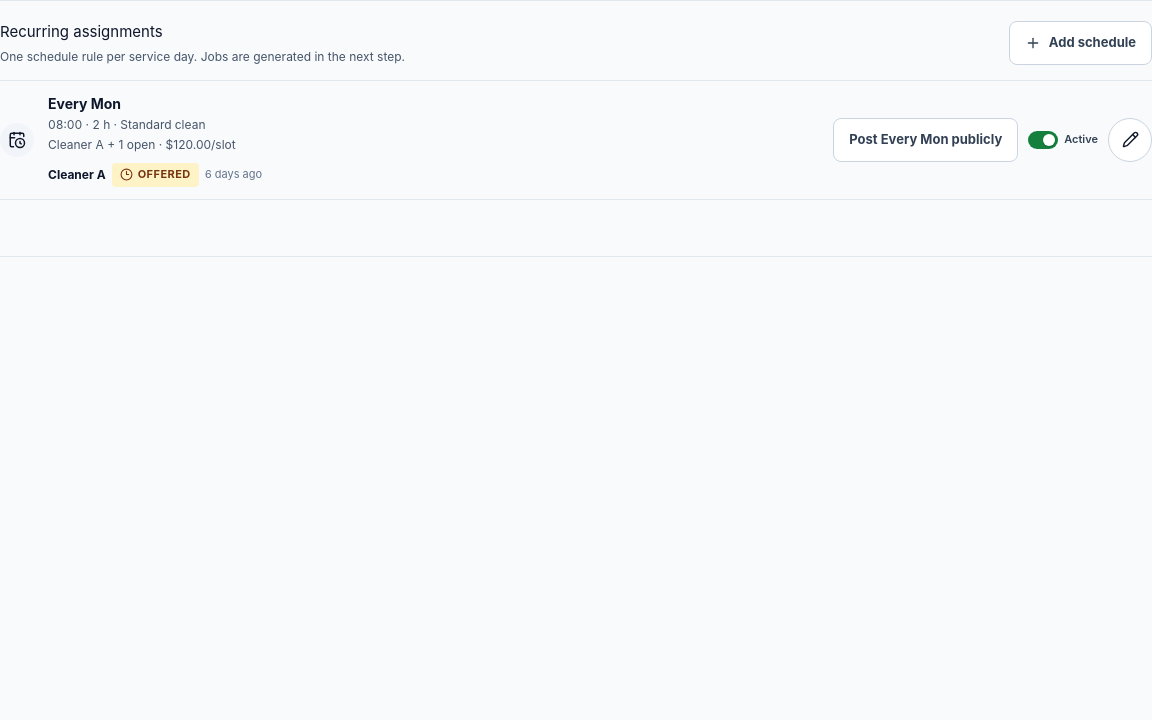
Test: CLE-14 recurring assignment site surface › discards abandoned edits when the same rule is reopened
Click the button named "Edit Every Mon" at (1130, 140), box [1108,118,1151,162]
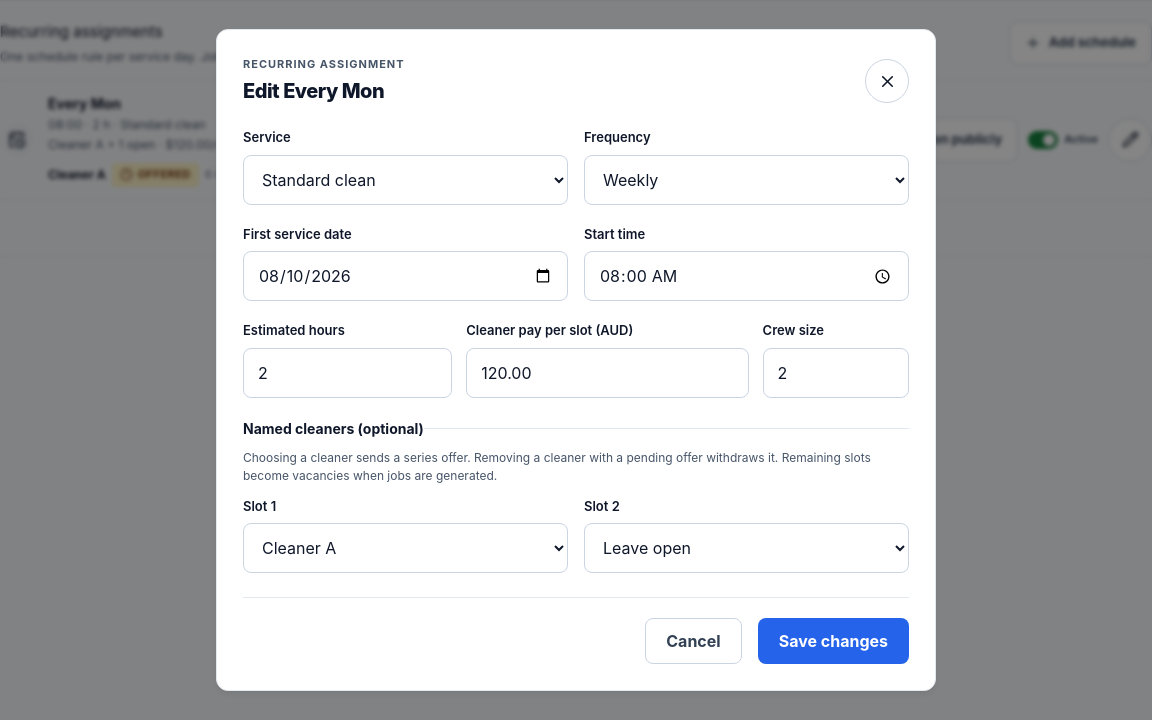
Replace the text in the time field labelled "Start time" with "09:30" at (746, 276), box [584,251,909,301]
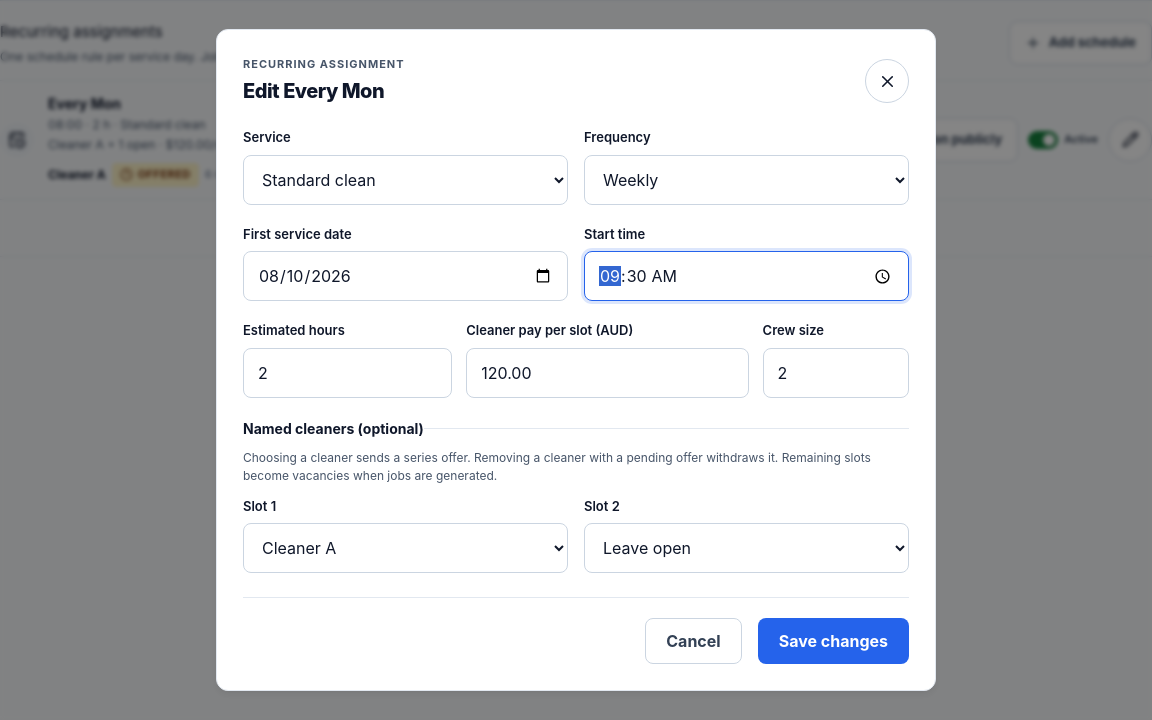
Click the button "Cancel" at (694, 641), box [645,618,742,664]
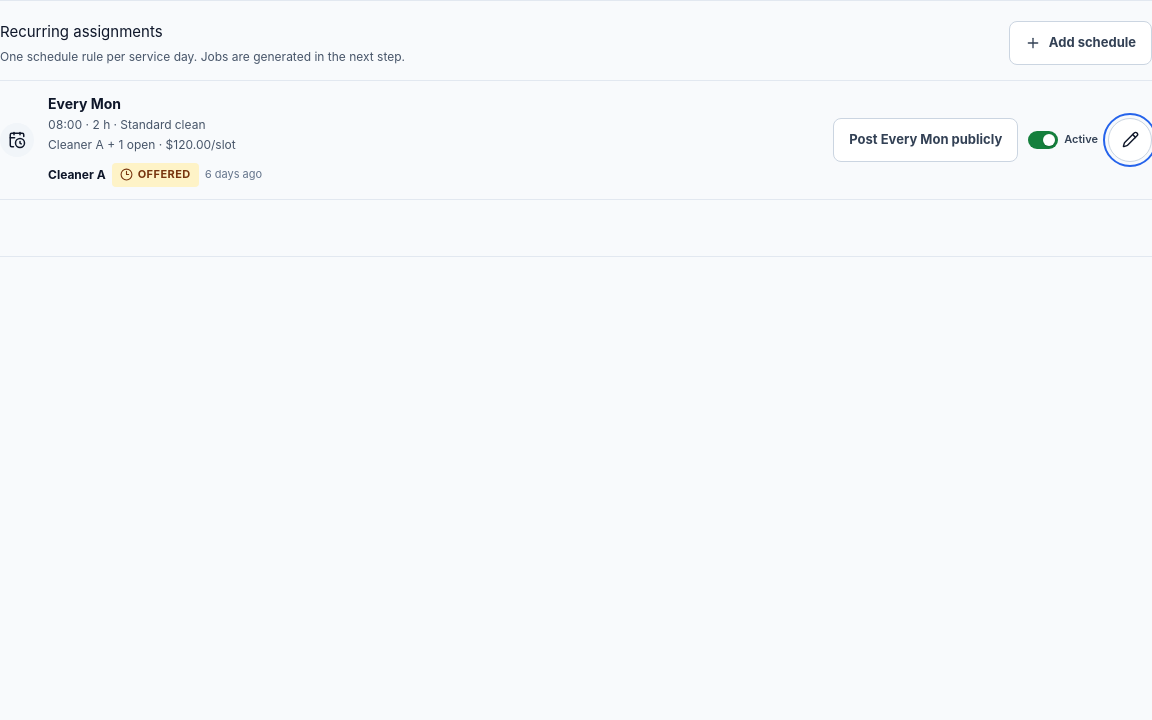
Click the button named "Edit Every Mon" at (1130, 140), box [1108,118,1151,162]
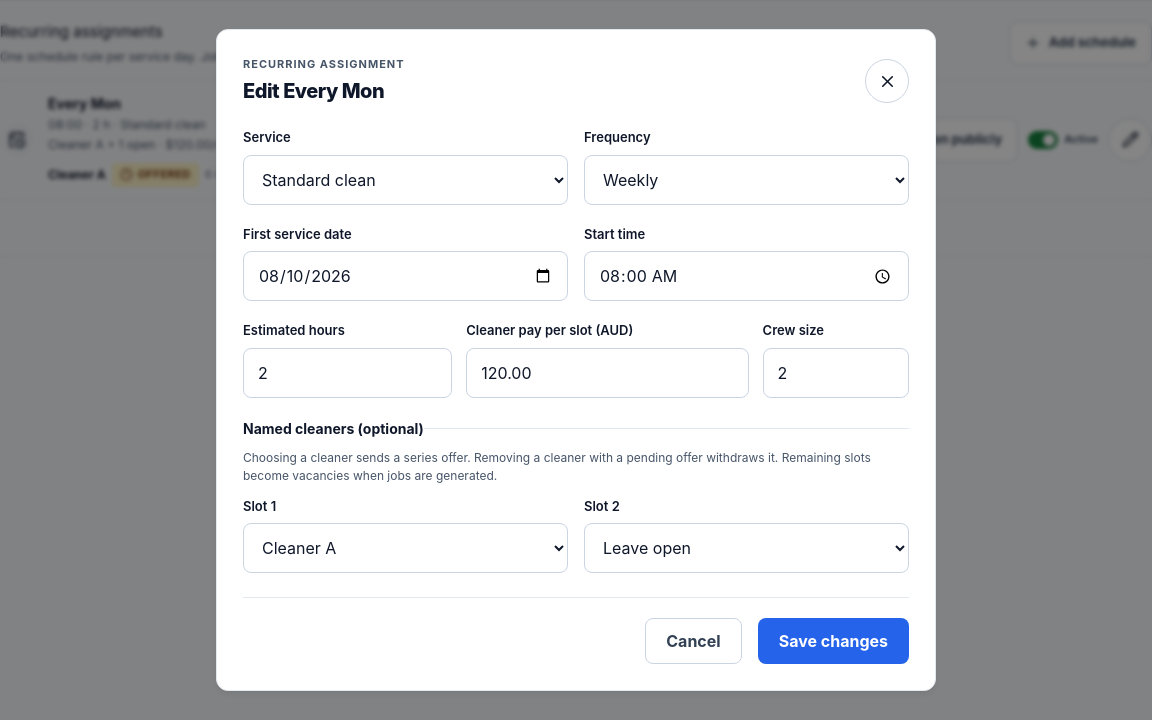
Check: the time field labelled "Start time" holds "08:00", box [584,251,909,301]
